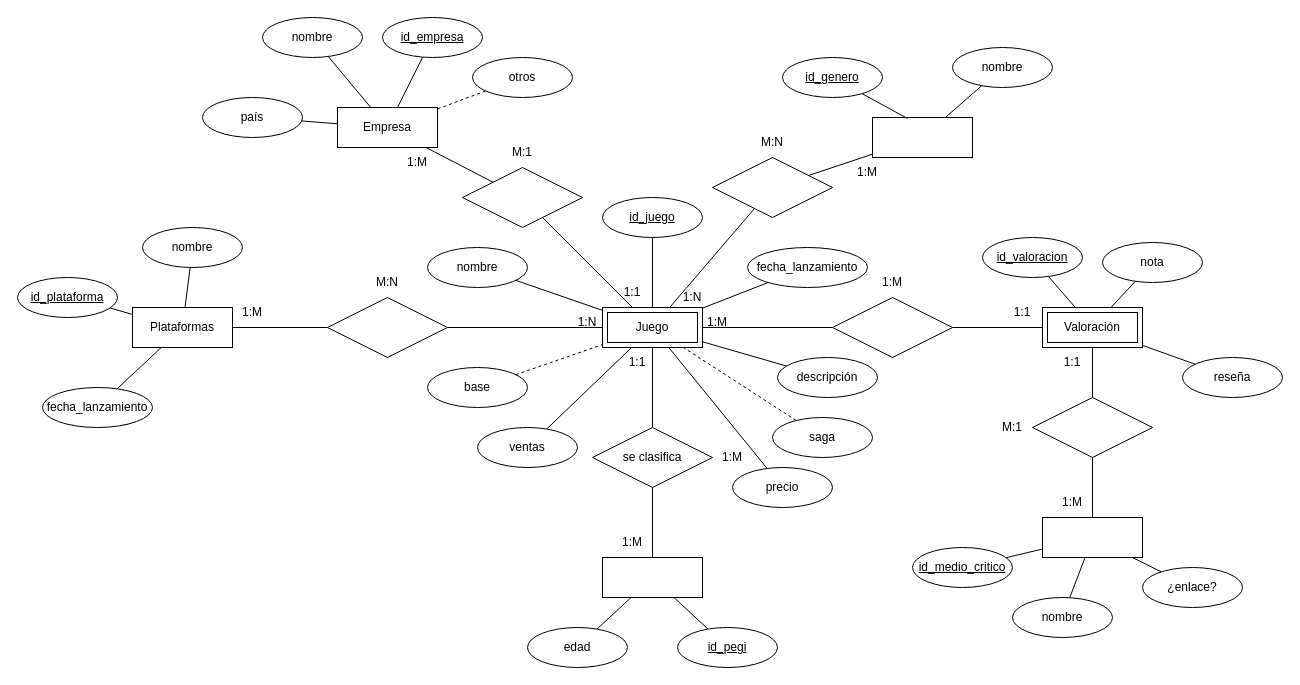
Image size: 1300x685. Some labels were removed from this diagram. Here are the shapes that lost their labels. From the top down, the centre of each, then its label:
At (x=922, y=137): "Géneros".
At (x=522, y=197): "desarrolla".
At (x=772, y=187): "pertenece".
At (x=387, y=327): "tiene".
At (x=892, y=327): "recibe".
At (x=1092, y=427): "escribe".
At (x=1092, y=537): "Medio crítico".
At (x=652, y=577): "Pegi".
